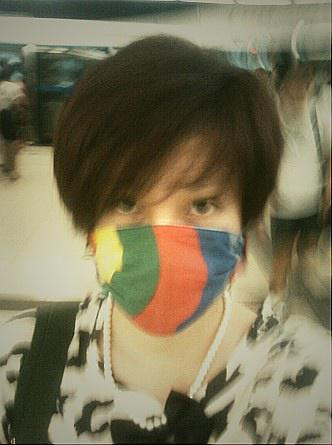OK: (92, 167, 245, 324)
